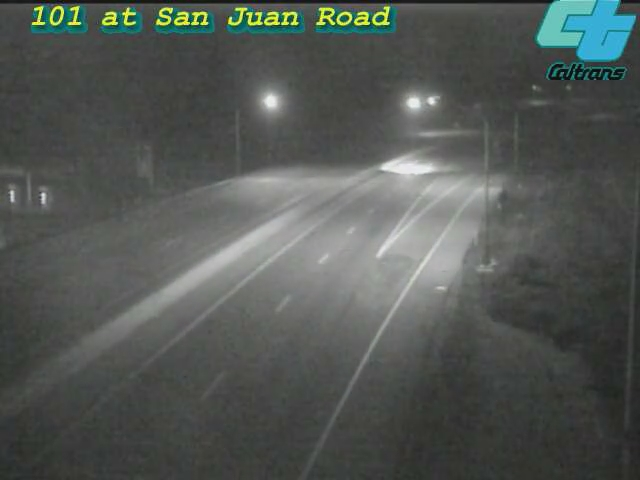vehicle: (373, 127, 453, 207)
